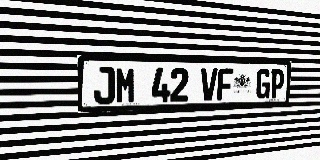2: (170, 67, 189, 102)
4: (151, 67, 170, 103)
F: (217, 68, 233, 100)
G: (256, 68, 271, 99)
J: (93, 66, 115, 105)
M: (116, 67, 136, 104)
P: (270, 69, 284, 98)
V: (200, 68, 217, 101)
